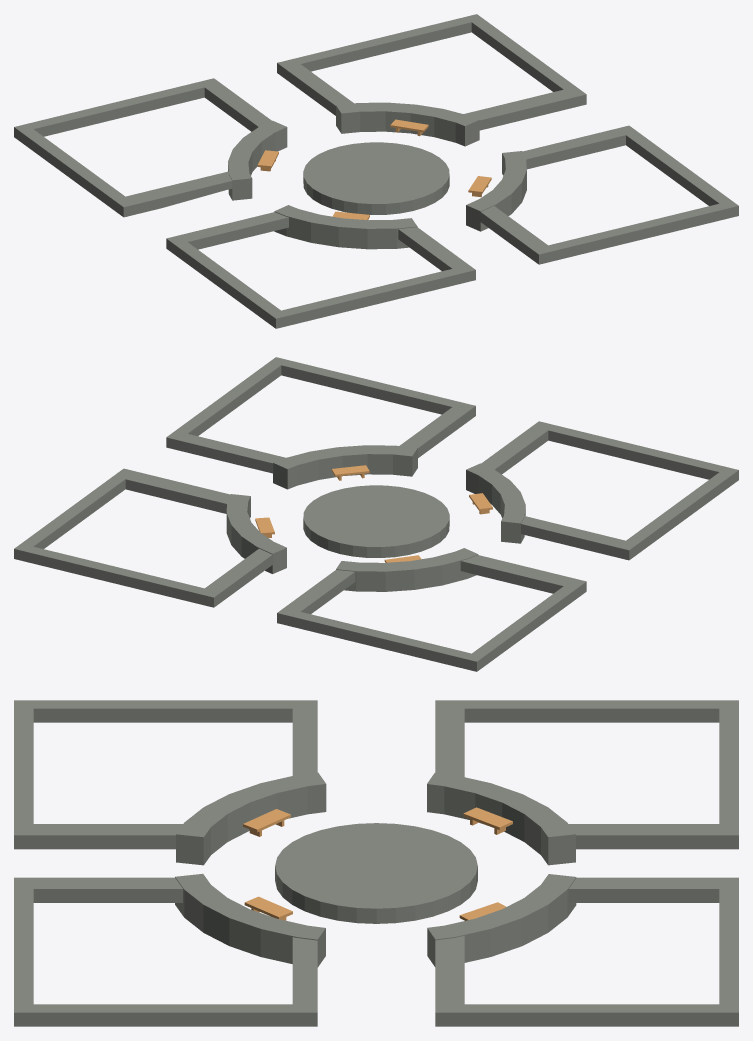
File: Cuadra_Plaza (2).fbx
The picture shows the model from 3 angles, top to bottom: view 1: azimuth 30°, elevation 25°; view 2: azimuth 150°, elevation 25°; view 3: azimuth 270°, elevation 25°; orthographic projection. The views are drawn at different scales.
Parts seen in each view (by area): view 1: Veredas.001; view 2: Veredas.001; view 3: Veredas.001.
Boxes of the visible parts, <box> form: Veredas.001: <box>14,14,738,328</box>; Veredas.001: <box>14,357,738,671</box>; Veredas.001: <box>14,700,738,1026</box>.
Size of the model in its own units: 4495 by 189 by 4406.
